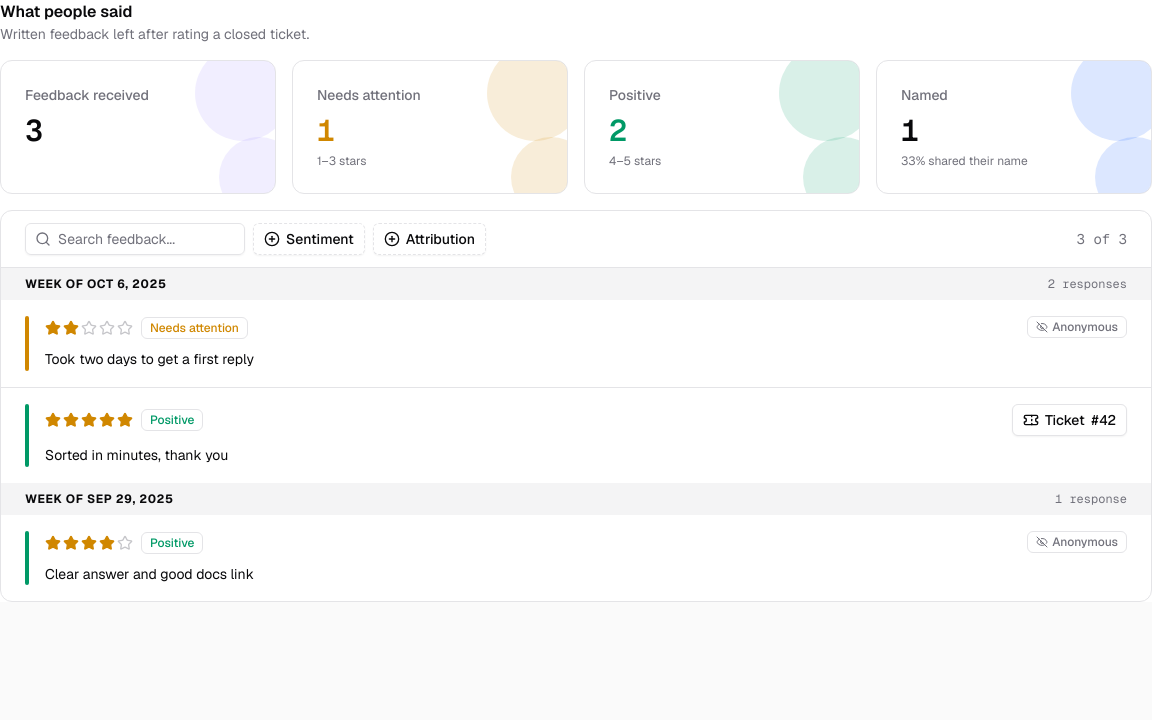
Scenario: RatingFeedback › filters by sentiment
This screenshot has width=1152, height=720.
Click the button "Sentiment".
click(309, 239)  # box [253, 223, 365, 255]
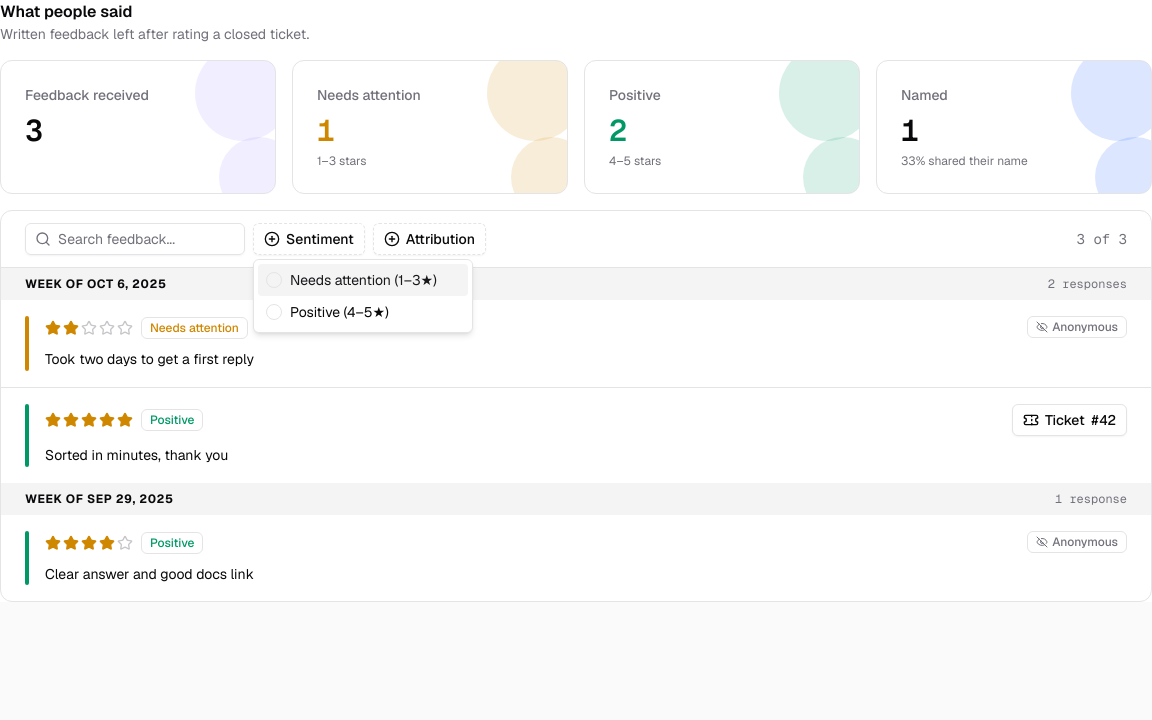
Click the option "Needs attention (1–3★)".
click(363, 280)  # box [258, 264, 468, 296]
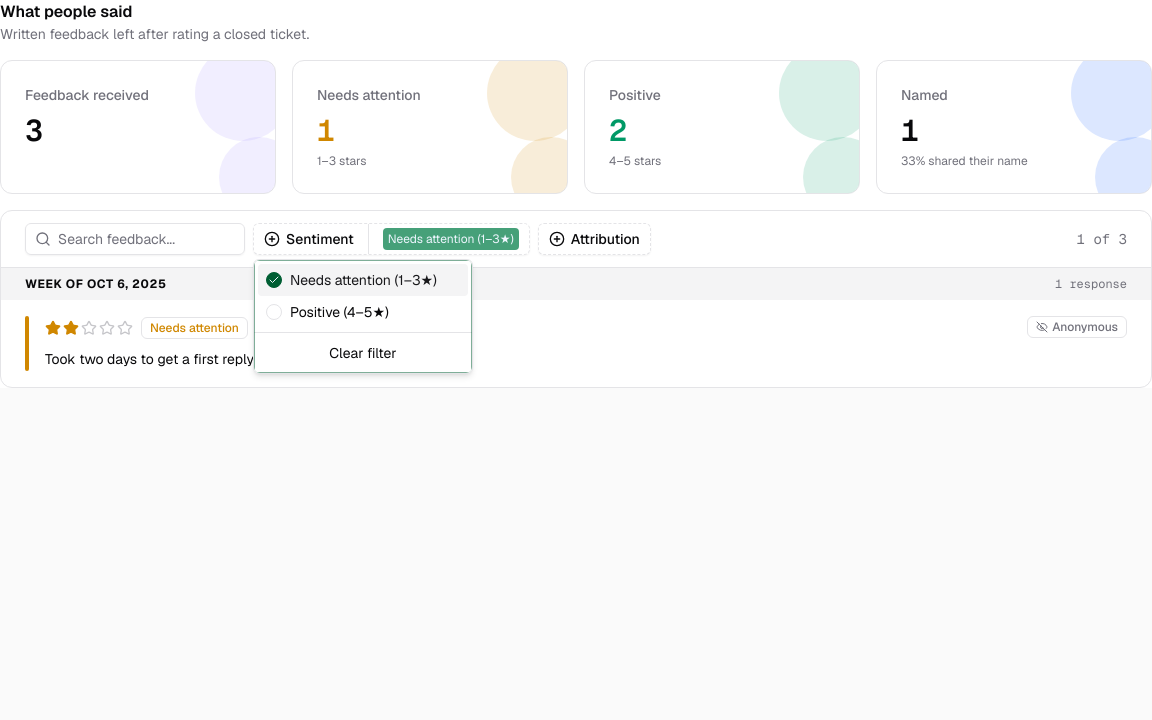
Expected: the text "Sorted in minutes, thank you" is gone
Expected: the text "Clear answer and good docs link" is gone
Expected: the text "1 of 3" is shown, [1077, 229, 1127, 249]
